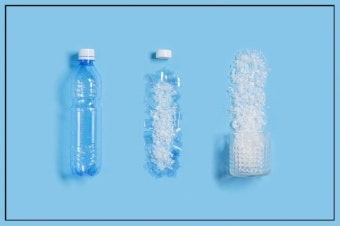plastic: (71, 48, 102, 175)
